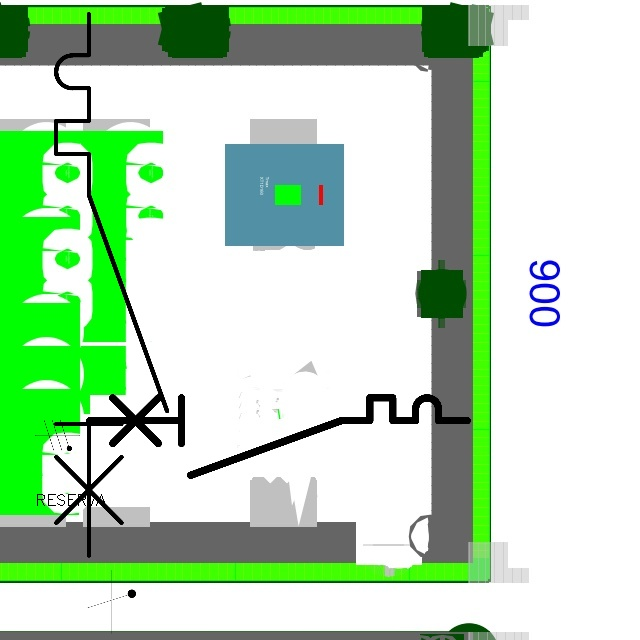interruptor_termomagnetico: (42, 0, 181, 570), (79, 388, 476, 485)
